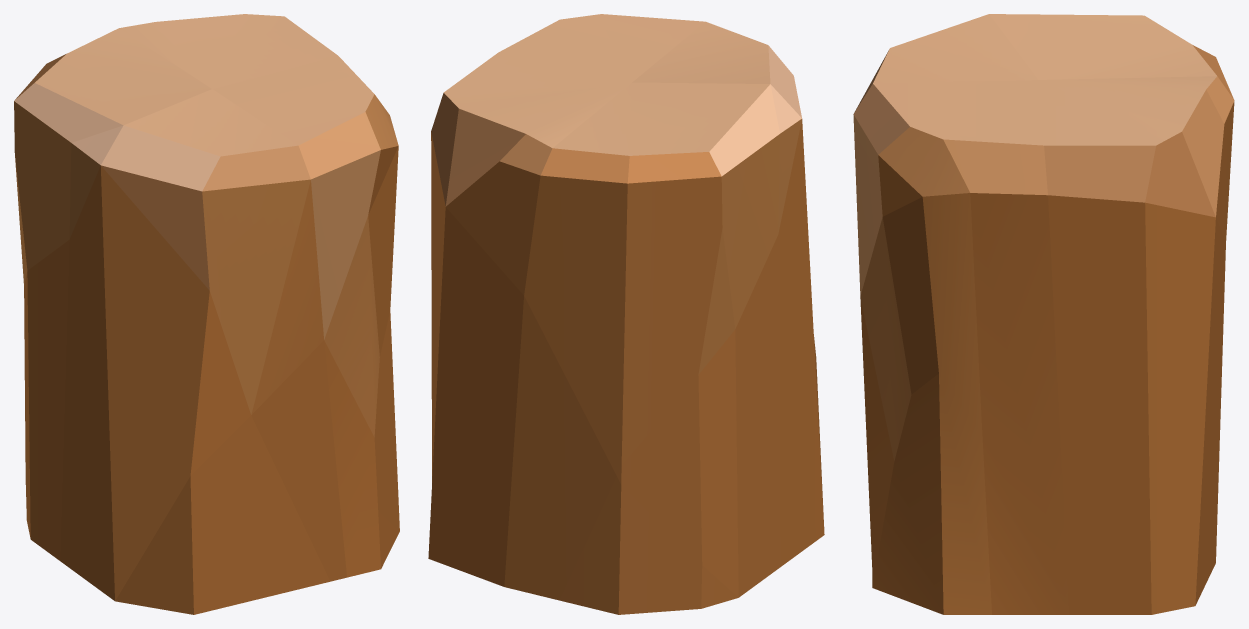
The model's file is stone_002.fbx.
The picture shows the model from 3 angles, left to right: view 1: azimuth 30°, elevation 25°; view 2: azimuth 150°, elevation 25°; view 3: azimuth 270°, elevation 25°; orthographic projection. The views are drawn at different scales.
Parts seen in each view (by area): view 1: stone_002; view 2: stone_002; view 3: stone_002.
Part boxes in pixels (x1=…): stone_002: x1=14, y1=14, x2=399, y2=614; stone_002: x1=428, y1=14, x2=824, y2=614; stone_002: x1=853, y1=14, x2=1234, y2=614.
Bounding box in the file's own units: 103 × 154 × 113.
